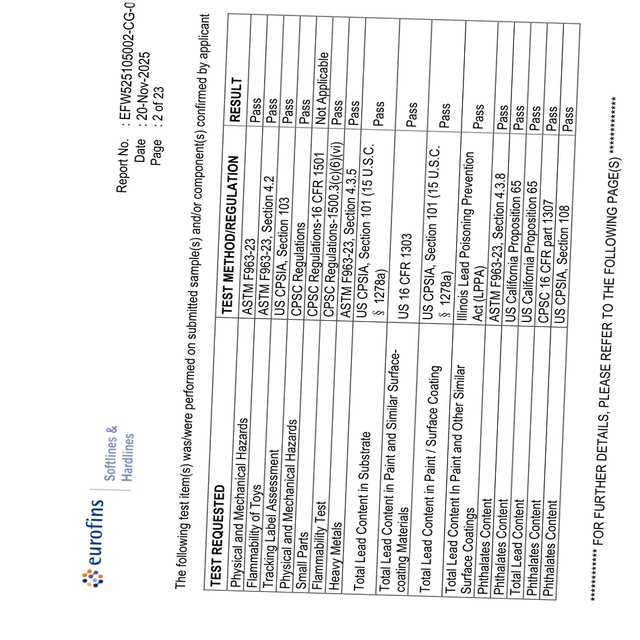eurofins: (79, 496, 107, 592)
